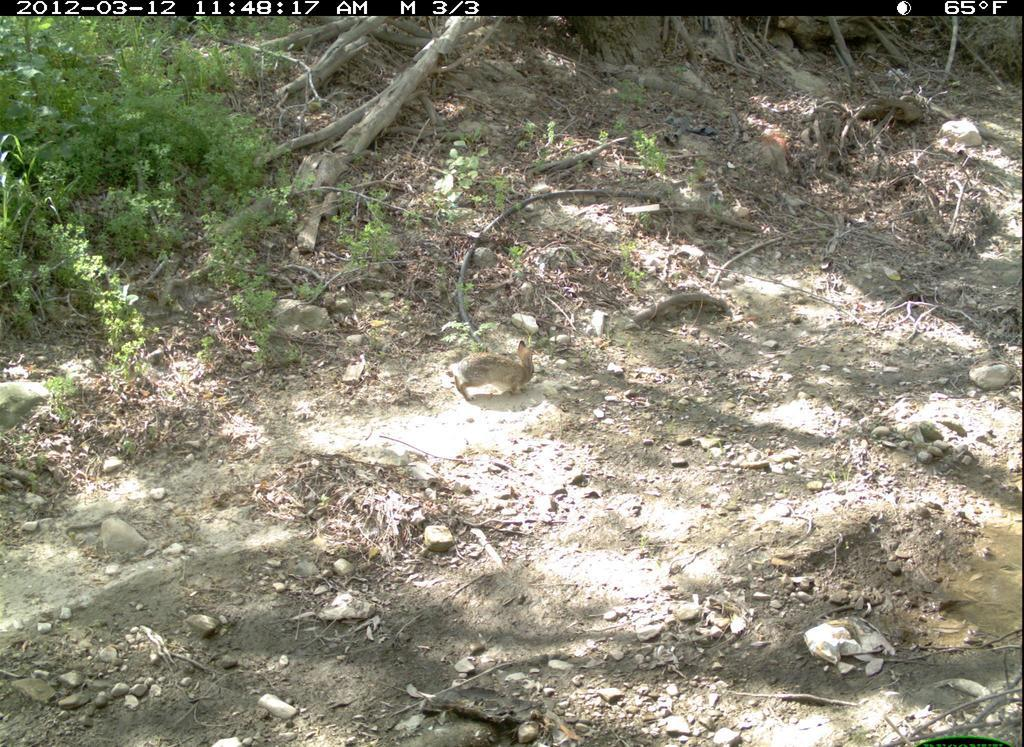rabbit: (438, 326, 564, 413)
